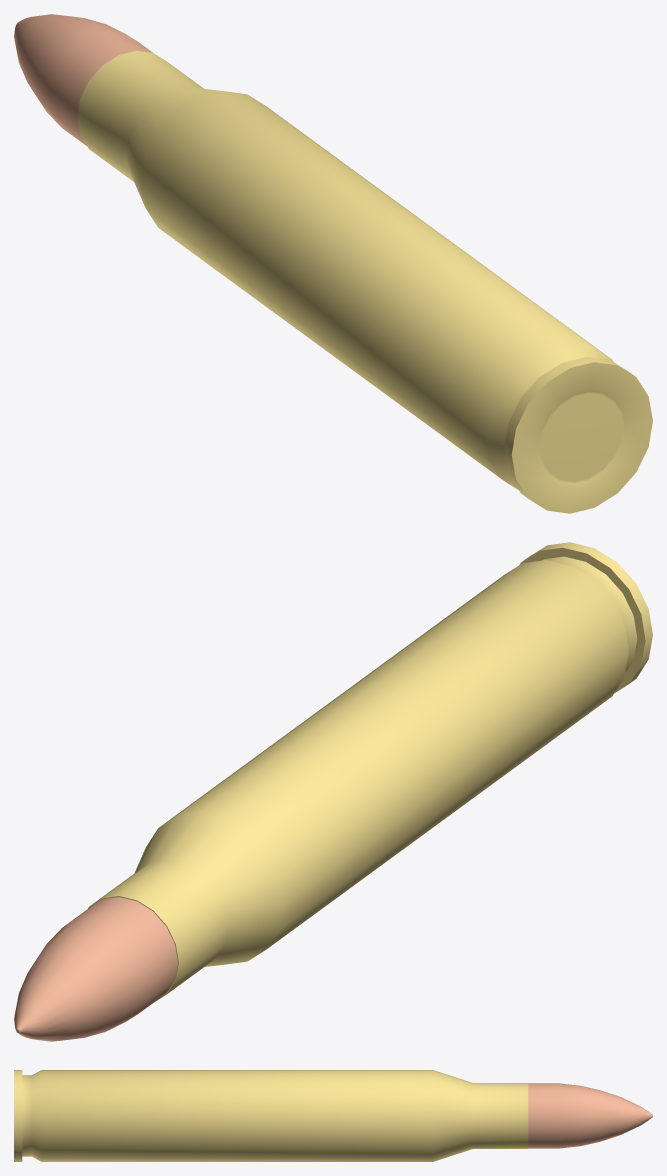
The model's file is bullet2.obj.
3 views of the same model, one above another, from view 1: azimuth 30°, elevation 25°; view 2: azimuth 150°, elevation 25°; view 3: azimuth 270°, elevation 25° (orthographic). The views are drawn at different scales.
Parts seen in each view (by area): view 1: Bullet; view 2: Bullet; view 3: Bullet.
Boxes of the visible parts, x1,y1,x2,y2 form: Bullet: [14, 14, 652, 513]; Bullet: [14, 542, 652, 1041]; Bullet: [14, 1070, 652, 1161].
Bounding box in the file's own units: 29.23 × 28.78 × 202.
